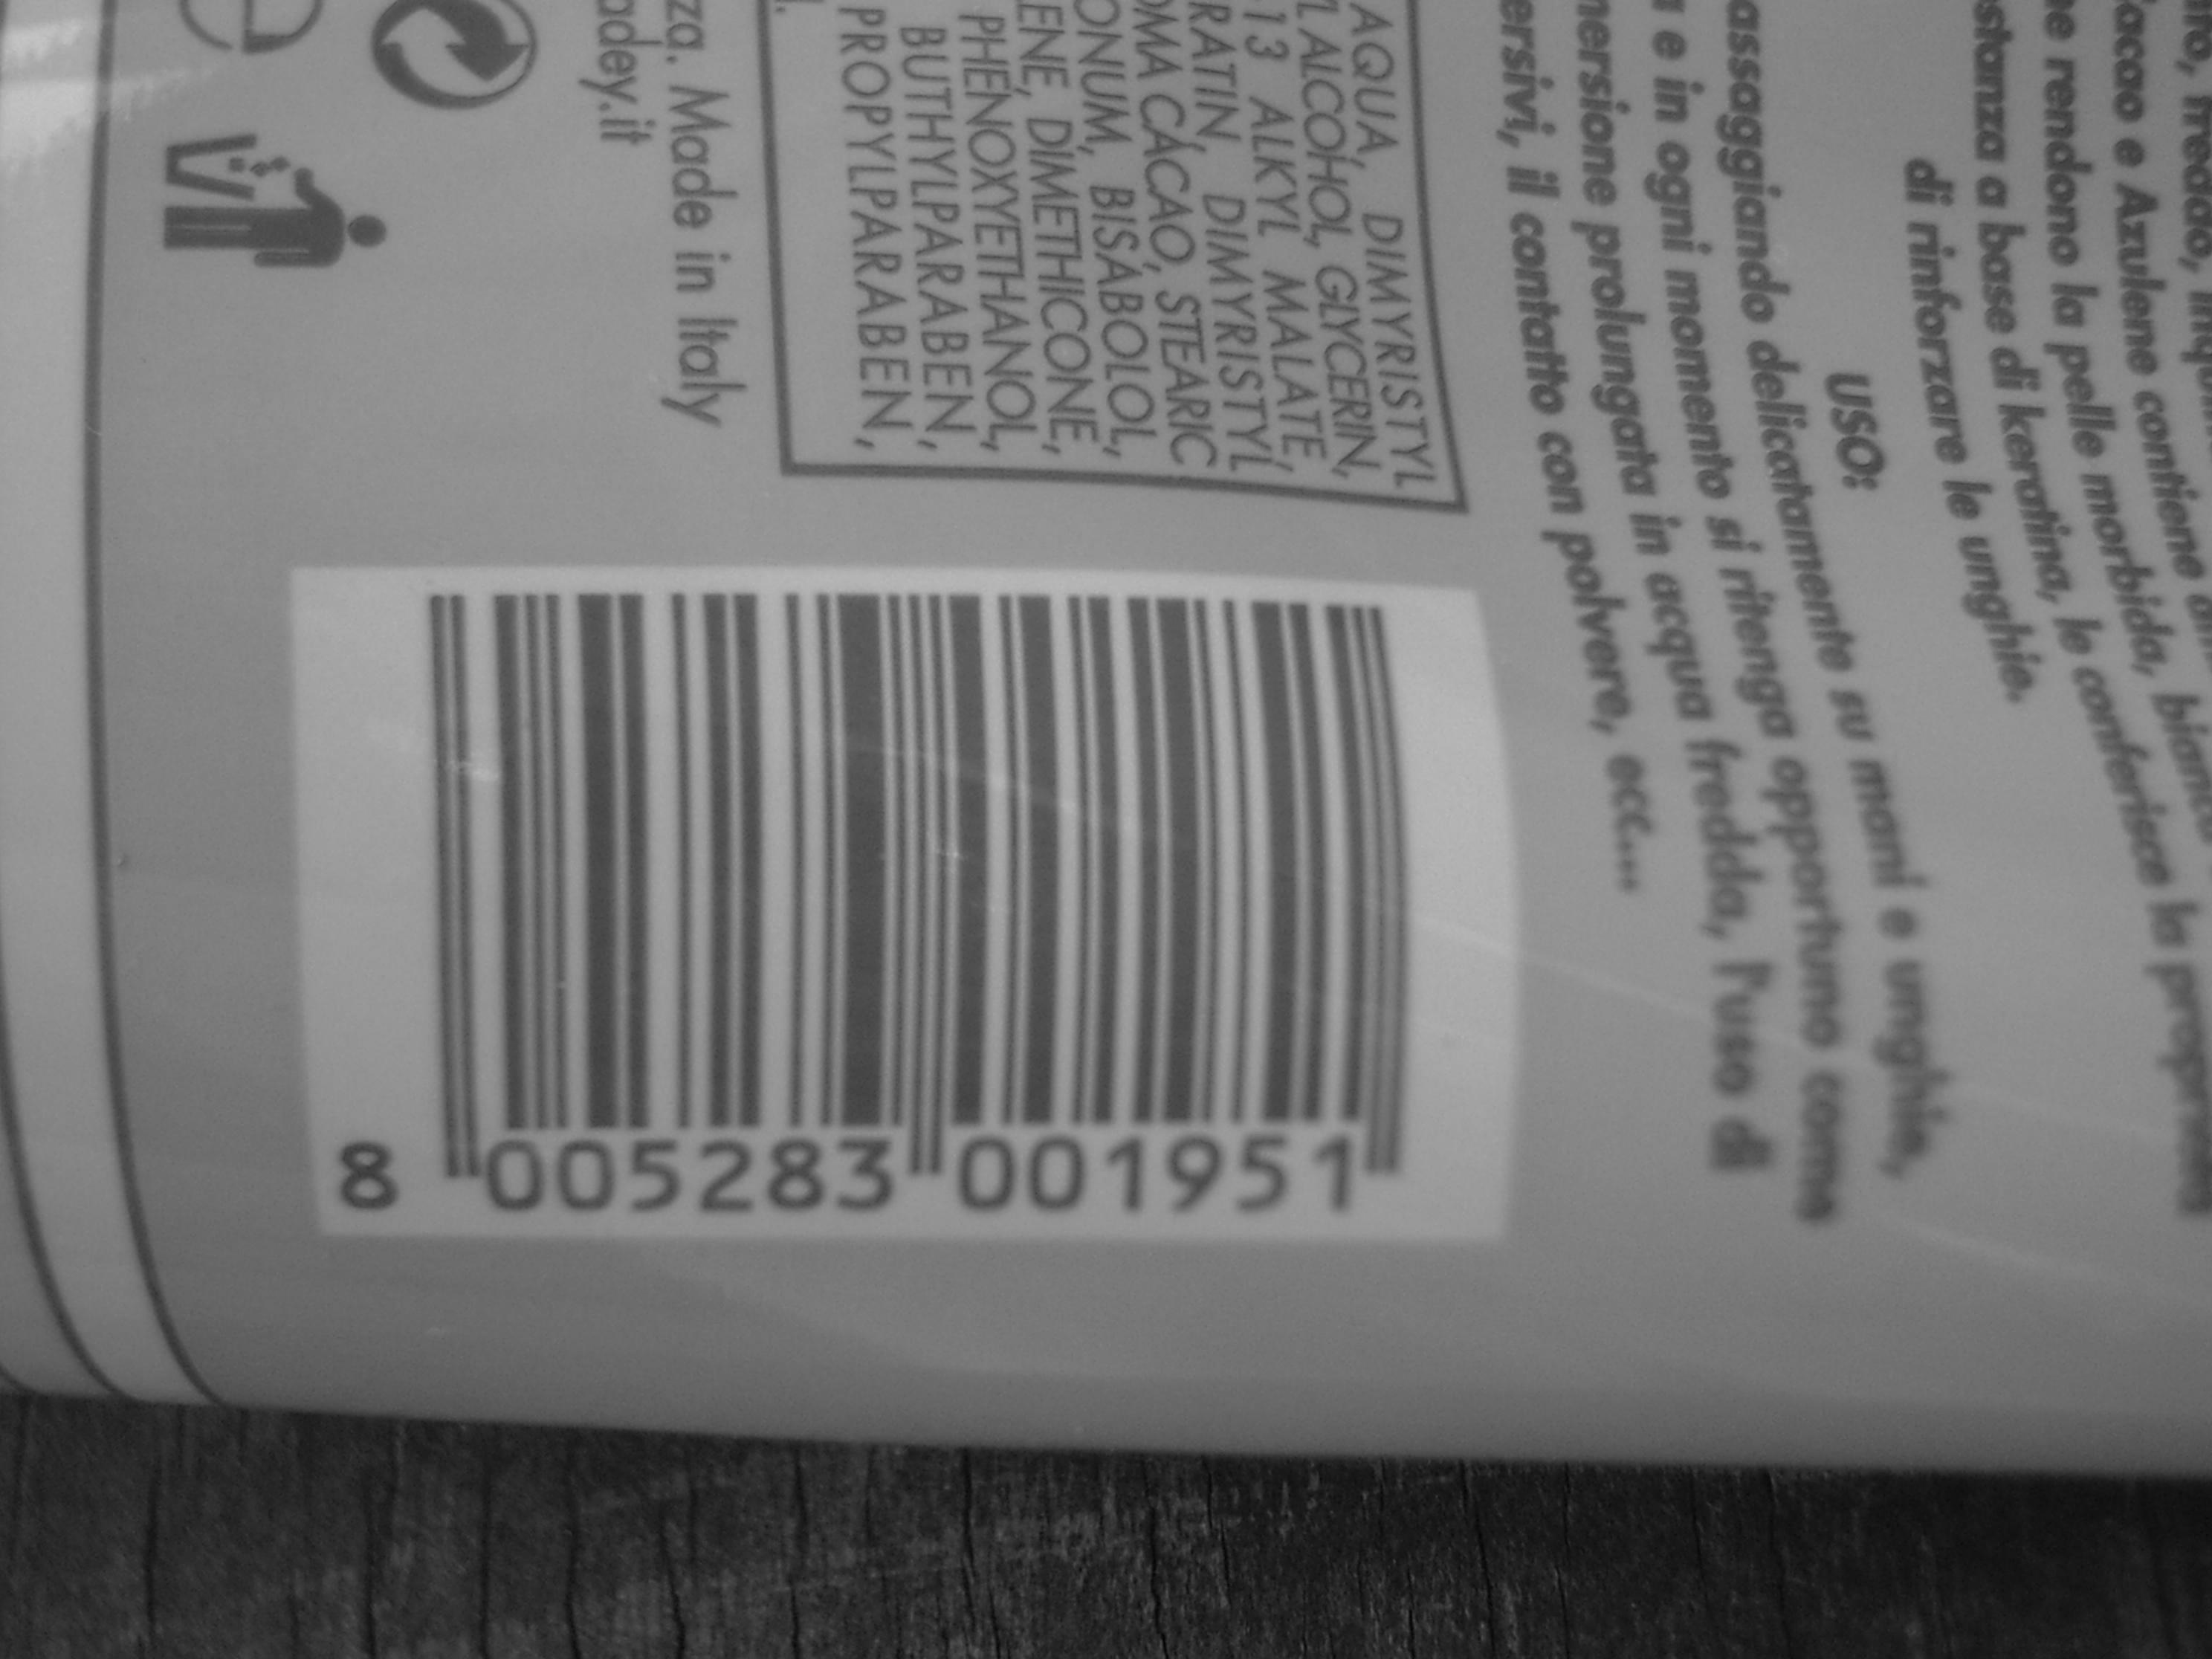Barcode: (378, 563, 1451, 1190)
